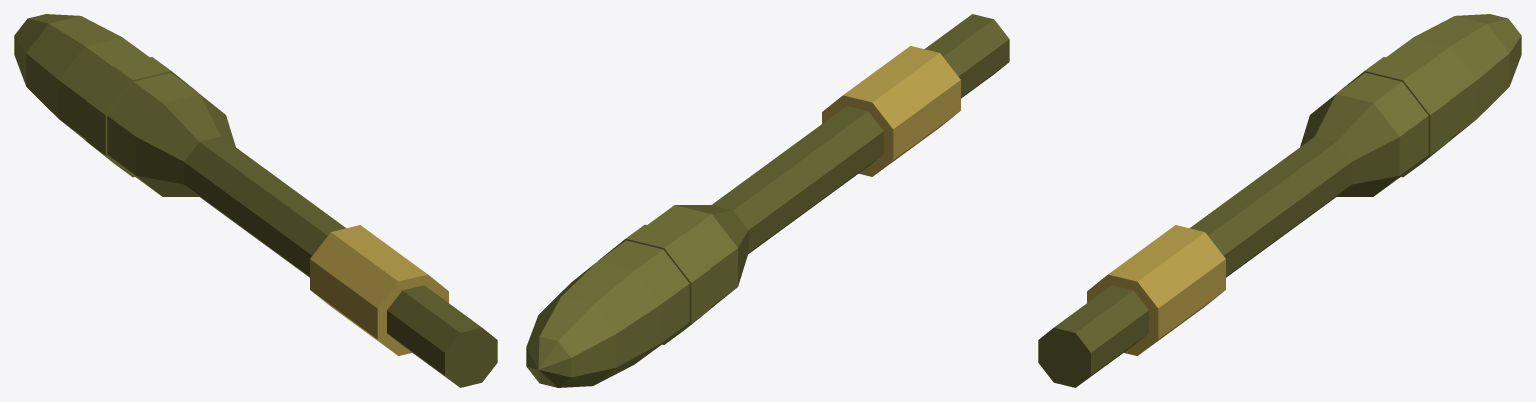
Rendered from ce_ammo2_spg9_heat_a.obj.
3 renders of one model, left to right at view 1: azimuth 30°, elevation 25°; view 2: azimuth 150°, elevation 25°; view 3: azimuth 330°, elevation 25°, orthographic.
Parts seen in each view (by area): view 1: ce_ammo2_spg9_heat_a_2, ce_ammo2_spg9_heat_a_1, ce_ammo2_spg9_heat_a_0, ce_ammo2_spg9_heat_a_3, ce_ammo2_spg9_heat_a_7, ce_ammo2_spg9_heat_a_4, ce_ammo2_spg9_heat_a_6, ce_ammo2_spg9_heat_a_5, ce_ammo2_spg9_heat_a_8; view 2: ce_ammo2_spg9_heat_a_2, ce_ammo2_spg9_heat_a_1, ce_ammo2_spg9_heat_a_7, ce_ammo2_spg9_heat_a_8, ce_ammo2_spg9_heat_a_6, ce_ammo2_spg9_heat_a_0, ce_ammo2_spg9_heat_a_4, ce_ammo2_spg9_heat_a_5, ce_ammo2_spg9_heat_a_9, ce_ammo2_spg9_heat_a_3; view 3: ce_ammo2_spg9_heat_a_2, ce_ammo2_spg9_heat_a_1, ce_ammo2_spg9_heat_a_0, ce_ammo2_spg9_heat_a_3, ce_ammo2_spg9_heat_a_7, ce_ammo2_spg9_heat_a_4, ce_ammo2_spg9_heat_a_6, ce_ammo2_spg9_heat_a_5, ce_ammo2_spg9_heat_a_8.
Boxes of the visible parts, box(x1,y1,x2,y2) form: ce_ammo2_spg9_heat_a_2: box(184, 136, 345, 277); ce_ammo2_spg9_heat_a_1: box(310, 225, 448, 355); ce_ammo2_spg9_heat_a_0: box(387, 285, 497, 387); ce_ammo2_spg9_heat_a_3: box(136, 94, 235, 196); ce_ammo2_spg9_heat_a_7: box(26, 16, 121, 118); ce_ammo2_spg9_heat_a_4: box(107, 72, 199, 194); ce_ammo2_spg9_heat_a_6: box(59, 37, 149, 140); ce_ammo2_spg9_heat_a_5: box(86, 57, 198, 177); ce_ammo2_spg9_heat_a_8: box(14, 14, 79, 85); ce_ammo2_spg9_heat_a_2: box(711, 106, 883, 253); ce_ammo2_spg9_heat_a_1: box(822, 46, 960, 176); ce_ammo2_spg9_heat_a_7: box(540, 261, 660, 385); ce_ammo2_spg9_heat_a_8: box(526, 297, 615, 387); ce_ammo2_spg9_heat_a_6: box(597, 240, 689, 361); ce_ammo2_spg9_heat_a_0: box(924, 14, 1009, 98); ce_ammo2_spg9_heat_a_4: box(648, 205, 737, 308); ce_ammo2_spg9_heat_a_5: box(598, 224, 710, 344); ce_ammo2_spg9_heat_a_9: box(526, 336, 571, 387); ce_ammo2_spg9_heat_a_3: box(675, 205, 748, 286); ce_ammo2_spg9_heat_a_2: box(1190, 136, 1351, 277); ce_ammo2_spg9_heat_a_1: box(1087, 225, 1225, 355); ce_ammo2_spg9_heat_a_0: box(1038, 285, 1148, 387); ce_ammo2_spg9_heat_a_3: box(1300, 94, 1399, 196); ce_ammo2_spg9_heat_a_7: box(1414, 16, 1509, 118); ce_ammo2_spg9_heat_a_4: box(1336, 72, 1428, 194); ce_ammo2_spg9_heat_a_6: box(1386, 37, 1476, 140); ce_ammo2_spg9_heat_a_5: box(1337, 57, 1449, 177); ce_ammo2_spg9_heat_a_8: box(1456, 14, 1521, 85).
Bounding box in the file's own units: 0.1108 × 0.1108 × 0.92.
